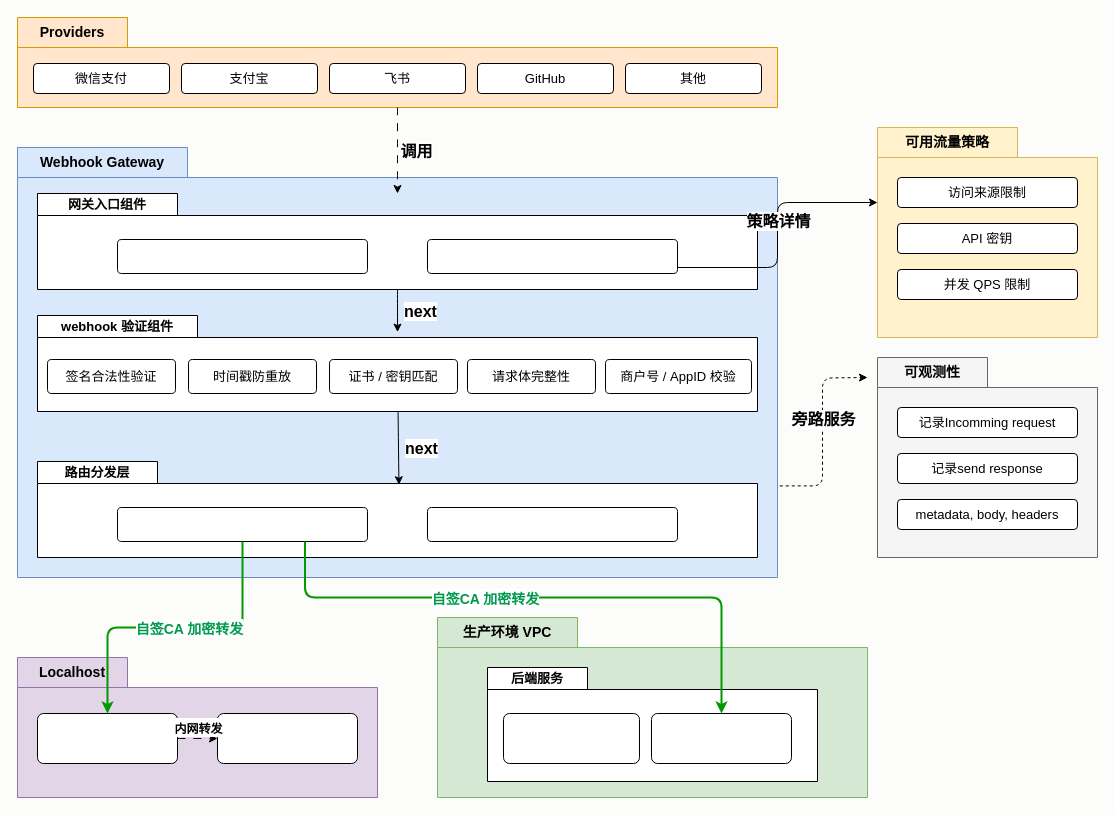
The diagram is 1115 pixels wide and 815 high, and some of its shapes have lost their labels. The shapes that lost their labels are listed below. From the top down, each one's centre as x and y in pixels, then its label:
At point (242, 256): "提供公网可用域名".
At point (552, 256): "流量策略过滤".
At point (242, 524): "内网服务转发组件".
At point (552, 524): "webhook 重放组件".
At point (107, 738): "客户端 CLI".
At point (287, 738): "内网 127.0.0.1".
At point (571, 738): "业务逻辑".
At point (721, 738): "orbitproxy sdk".
